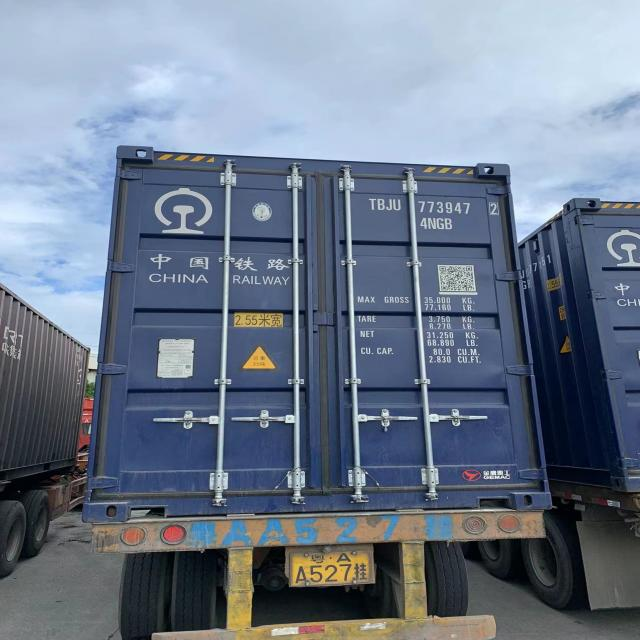seal: (380, 413, 390, 432)
